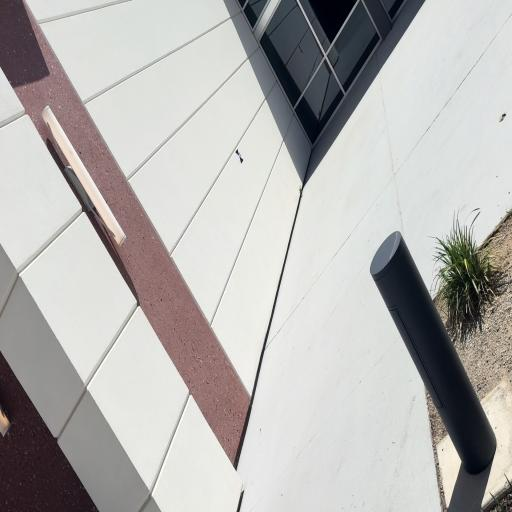target4: (235, 148, 244, 165)
